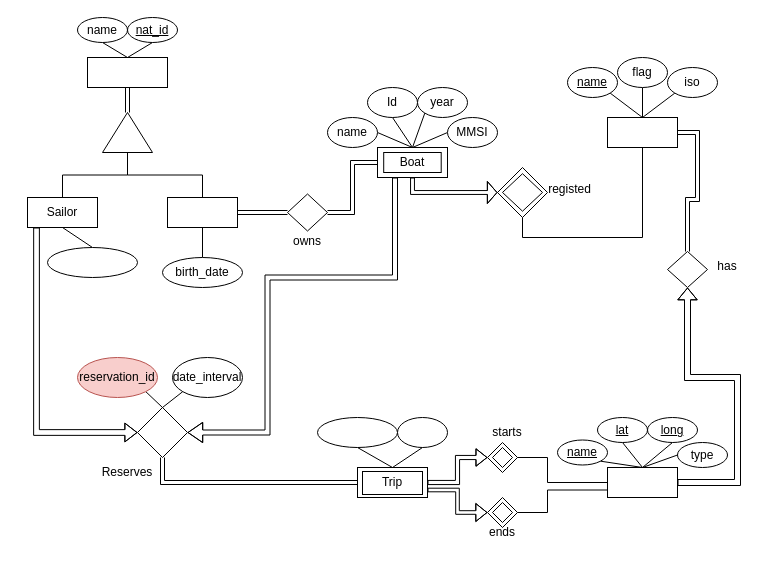
Image size: 784x575. Some labels were removed from this diagram. Each missing label, with the centre of its shape:
"Country" belongs at (x=642, y=132).
"duration" belongs at (x=422, y=432).
"Location" belongs at (x=642, y=482).
"Owner" belongs at (x=202, y=212).
"Person" belongs at (x=127, y=72).
"sail_weekends" belongs at (x=92, y=262).
"takeoff_date" belongs at (x=357, y=432).
